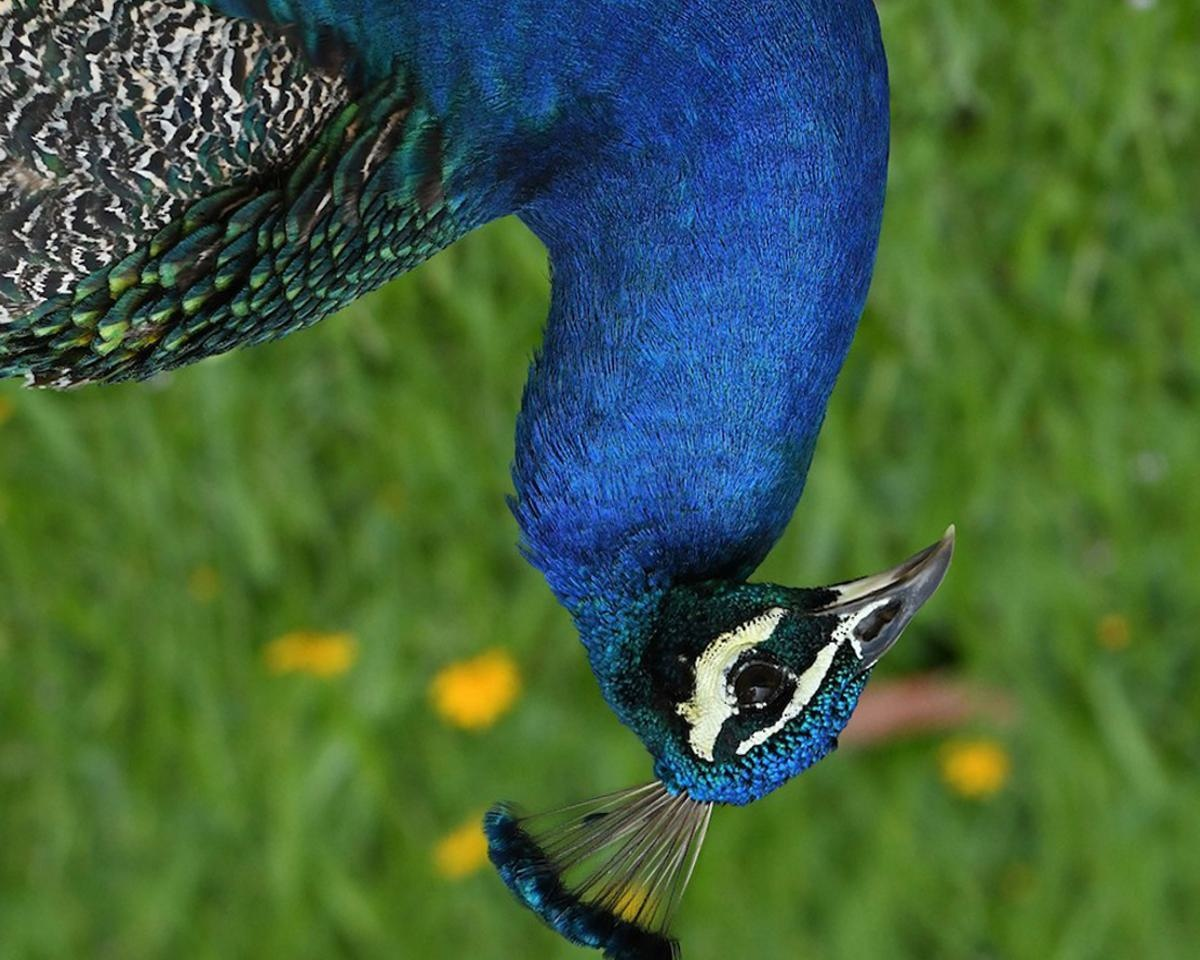peacock: (1, 1, 955, 878)
